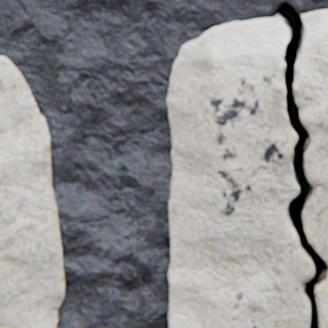brick: (0, 56, 65, 327)
broken_brick: (167, 17, 314, 327), (293, 9, 327, 262), (314, 267, 327, 327)
crack: (273, 1, 327, 327)
